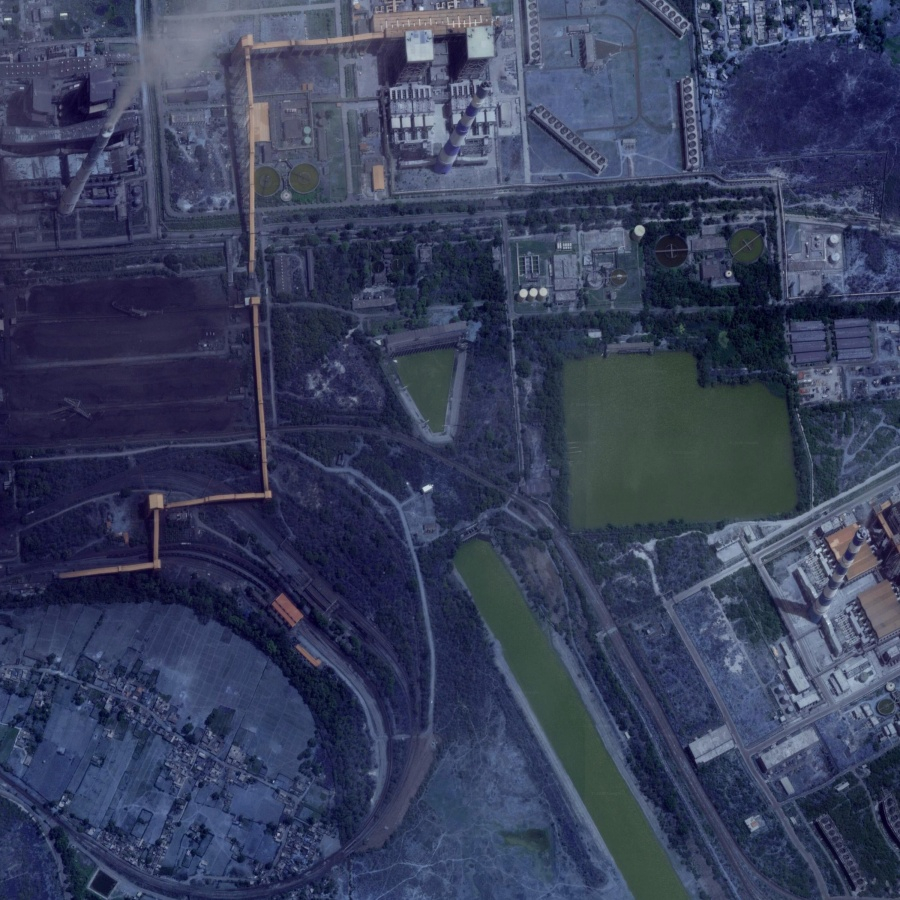PowerPlant: (382, 8, 506, 188)
